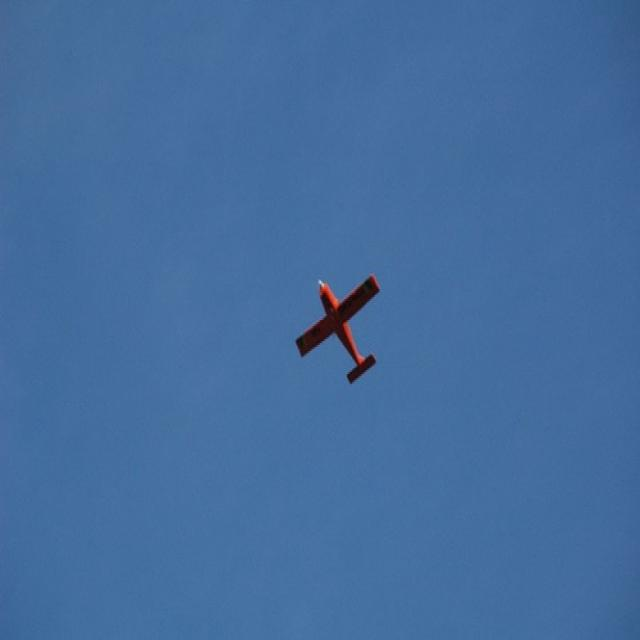aeroplane: (294, 272, 380, 385)
